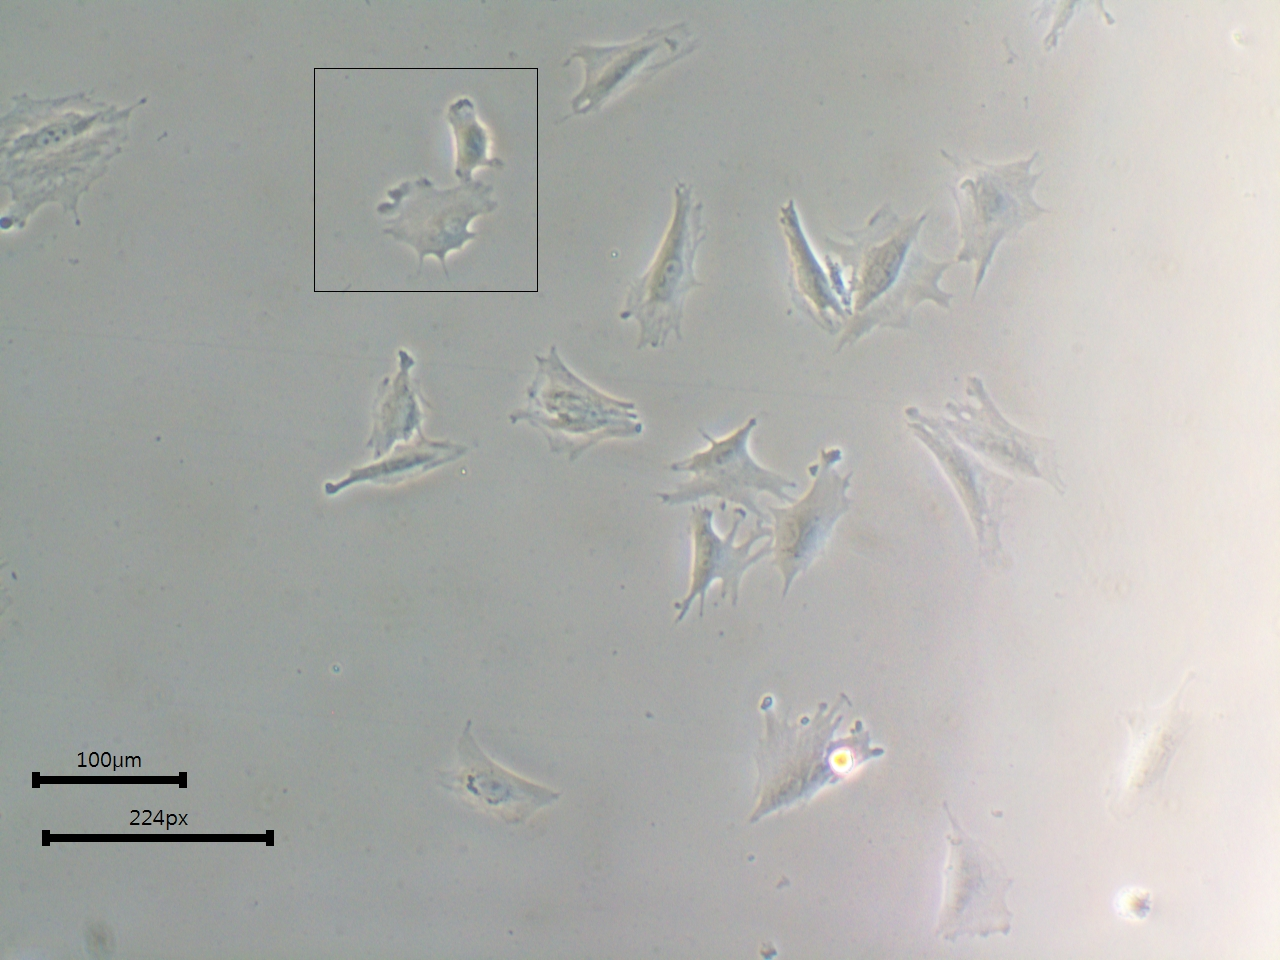dividing: (769, 457, 855, 593)
medium-polygonal: (736, 684, 887, 835), (613, 187, 710, 348), (565, 26, 711, 128), (776, 200, 840, 329)
medium-spread: (951, 147, 1052, 295), (930, 804, 1025, 953), (655, 416, 791, 509)
small-polygonal: (677, 509, 758, 617)
